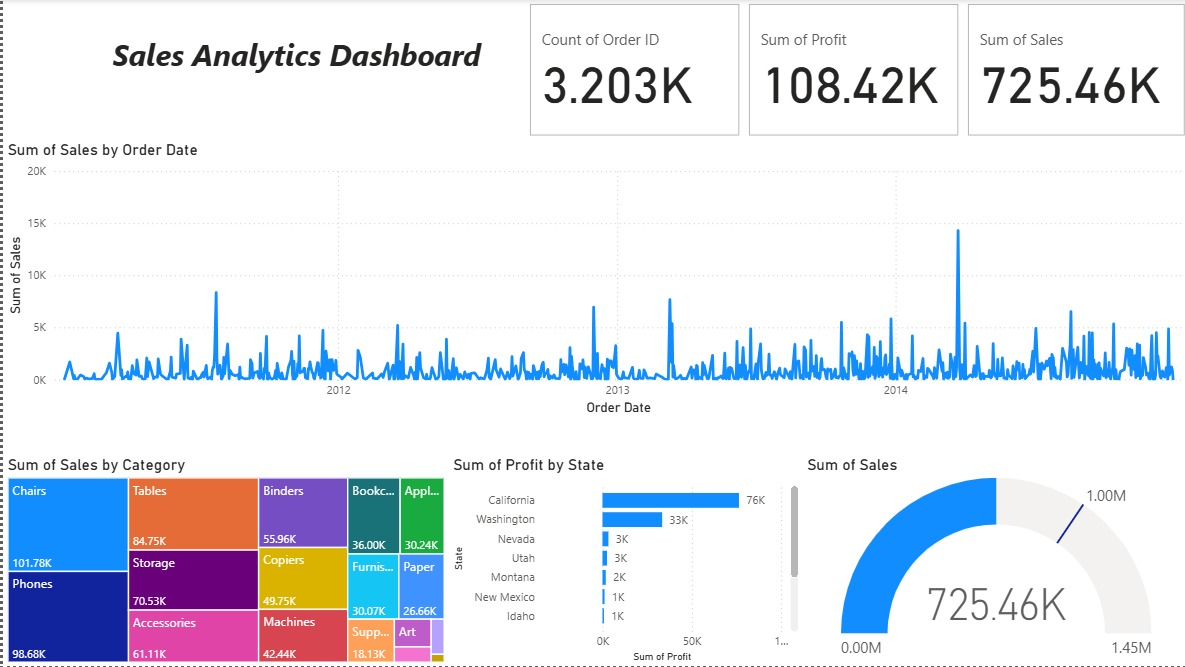

What the dashboard file says about the page in this screenshot:
{"tool":"powerbi","page":{"name":"Page 1","canvas":[1280,720],"ordinal":0},"visuals":[{"type":"cardVisual","fields":{"Data":["Sum(Walmart (2).Sales)"]},"box":[1036.3,0,244.5,152.2],"z":0},{"type":"cardVisual","fields":{"Data":["Sum(Walmart (2).Profit)"]},"box":[799.9,0,236.4,152.2],"z":1000},{"type":"cardVisual","fields":{"Data":["CountNonNull(Walmart (2).Order ID)"]},"box":[563.5,0,236.4,152.2],"z":2000},{"type":"lineChart","fields":{"Category":["Walmart (2).Order Date"],"Y":["Sum(Walmart (2).Sales)"]},"box":[0,152.2,1280.8,301.2],"z":3000},{"type":"treemap","fields":{"Values":["Sum(Walmart (2).Sales)"],"Group":["Walmart (2).Category"]},"box":[0,492.2,480.9,228.3],"z":4000},{"type":"clusteredBarChart","fields":{"Category":["Walmart (2).State"],"Y":["Sum(Walmart (2).Profit)"]},"box":[480.9,492.2,382.1,228.3],"z":5000},{"type":"gauge","fields":{"Y":["Sum(Walmart (2).Sales)"]},"box":[863,492.2,417.8,228.3],"z":6000},{"type":"textbox","box":[0,32.4,563.5,87.4],"z":7000}]}

Visuals, with their boxes in screenshot pixels (x1, y1, x2, y2), scaled from the page's 1280x720 canvas onto the 1185x667 screenshot:
cardVisual - Sum(Walmart (2).Sales): locate(959, 0, 1184, 141)
cardVisual - Sum(Walmart (2).Profit): locate(741, 0, 959, 141)
cardVisual - CountNonNull(Walmart (2).Order ID): locate(522, 0, 741, 141)
lineChart - Walmart (2).Order Date x Sum(Walmart (2).Sales): locate(0, 141, 1184, 420)
treemap - Sum(Walmart (2).Sales) x Walmart (2).Category: locate(0, 456, 445, 666)
clusteredBarChart - Walmart (2).State x Sum(Walmart (2).Profit): locate(445, 456, 799, 666)
gauge - Sum(Walmart (2).Sales): locate(799, 456, 1184, 666)
textbox: locate(0, 30, 522, 111)
